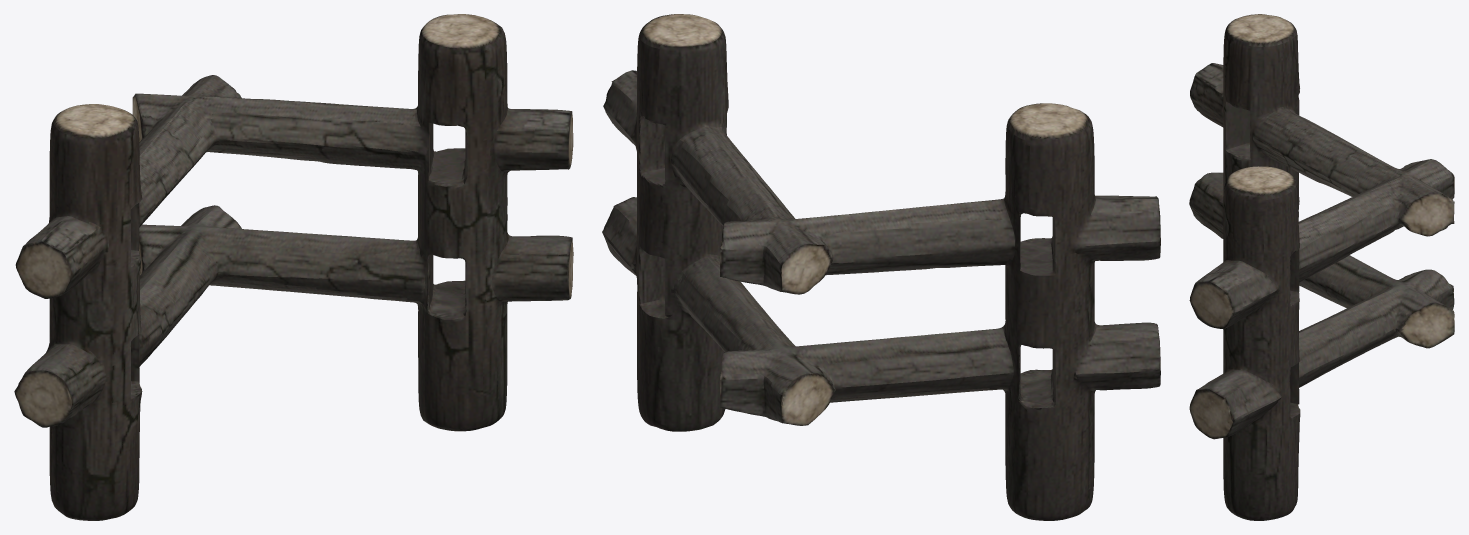
The model's file is ok-fence-corner-pixelated.glb.
3 views of the same model, side by side, from view 1: azimuth 30°, elevation 25°; view 2: azimuth 150°, elevation 25°; view 3: azimuth 270°, elevation 25° (orthographic). The views are drawn at different scales.
Parts seen in each view (by area): view 1: 0; view 2: 0; view 3: 0.
Part boxes in pixels (x1,y1,x2,y2): 0: (14,14,573,520); 0: (602,14,1160,520); 0: (1189,14,1454,520).
Bounding box in the file's own units: 1.89 × 1.26 × 0.9199.
1 material, 1 textured.
